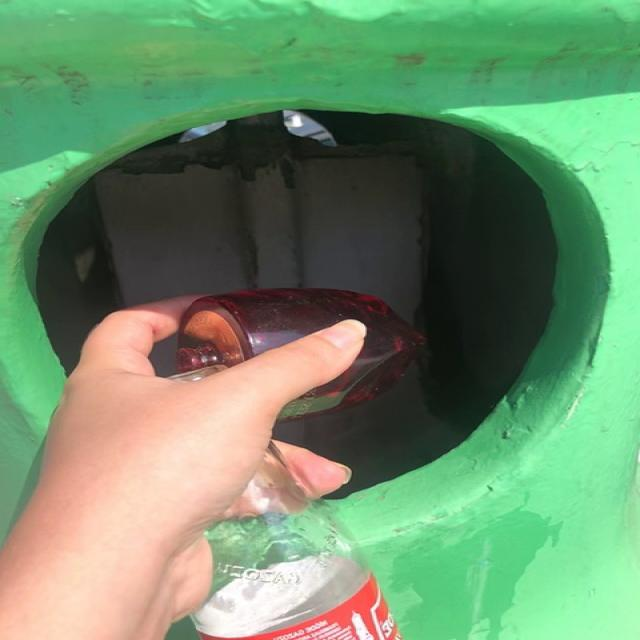glass: (191, 444, 401, 640), (169, 289, 423, 416)
